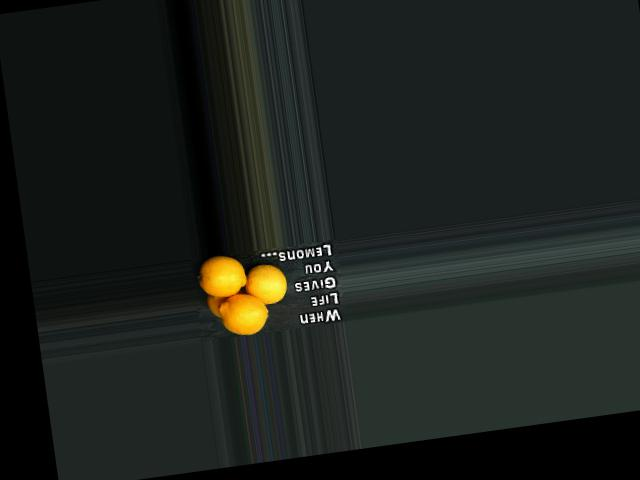lemon: (196, 255, 251, 299)
